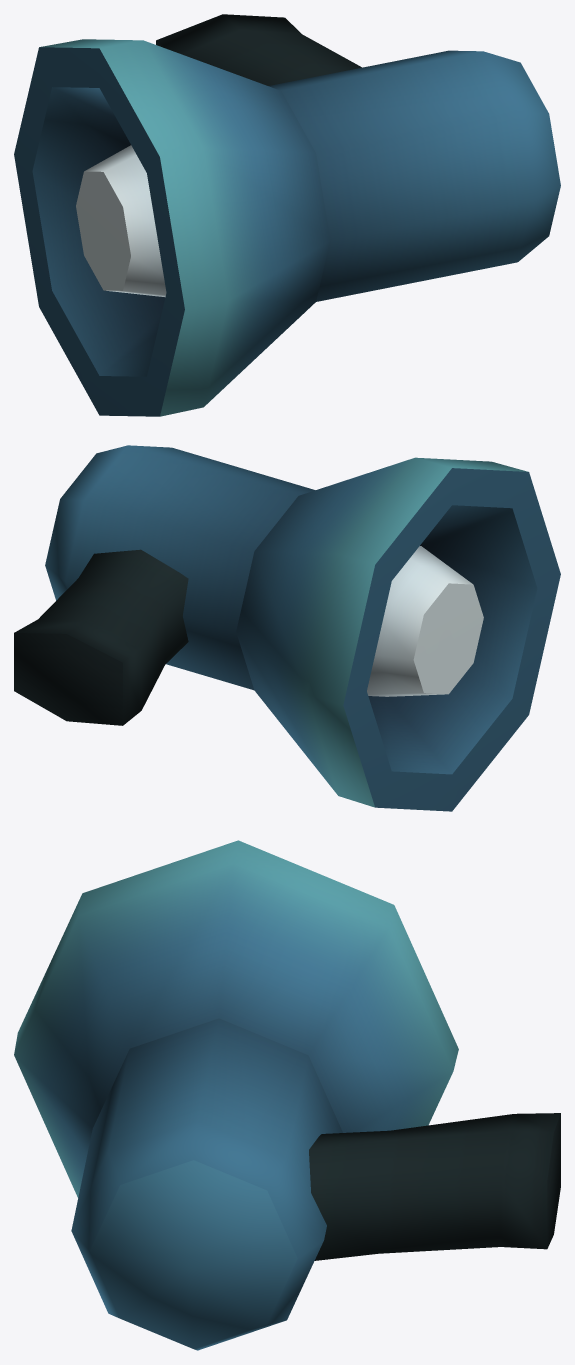
The model's file is megaphone.fbx.
3 views of the same model, one above another, from view 1: azimuth 30°, elevation 25°; view 2: azimuth 150°, elevation 25°; view 3: azimuth 270°, elevation 25° (orthographic). The views are drawn at different scales.
Parts seen in each view (by area): view 1: megaphone; view 2: megaphone; view 3: megaphone.
Boxes of the visible parts, bbox=[...] form: megaphone: bbox=[14, 14, 560, 416]; megaphone: bbox=[14, 445, 560, 811]; megaphone: bbox=[14, 840, 560, 1350].
Size of the model in its own units: 50.2 by 40 by 49.41.
Materials: 1 (1 with a texture image).
